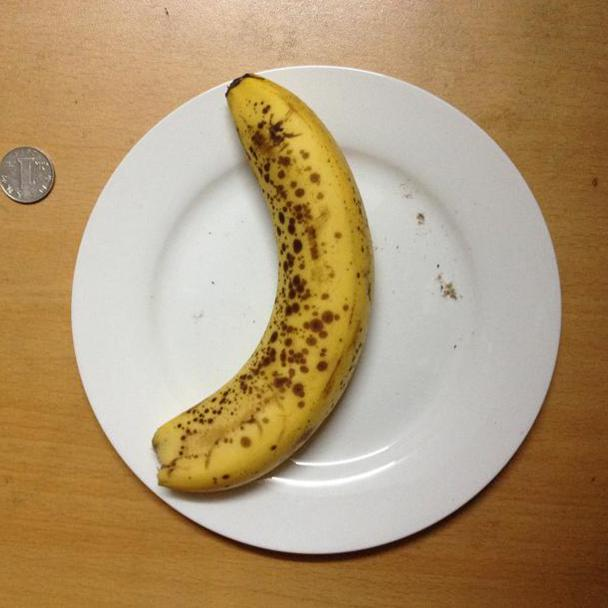banana: (156, 74, 374, 493)
